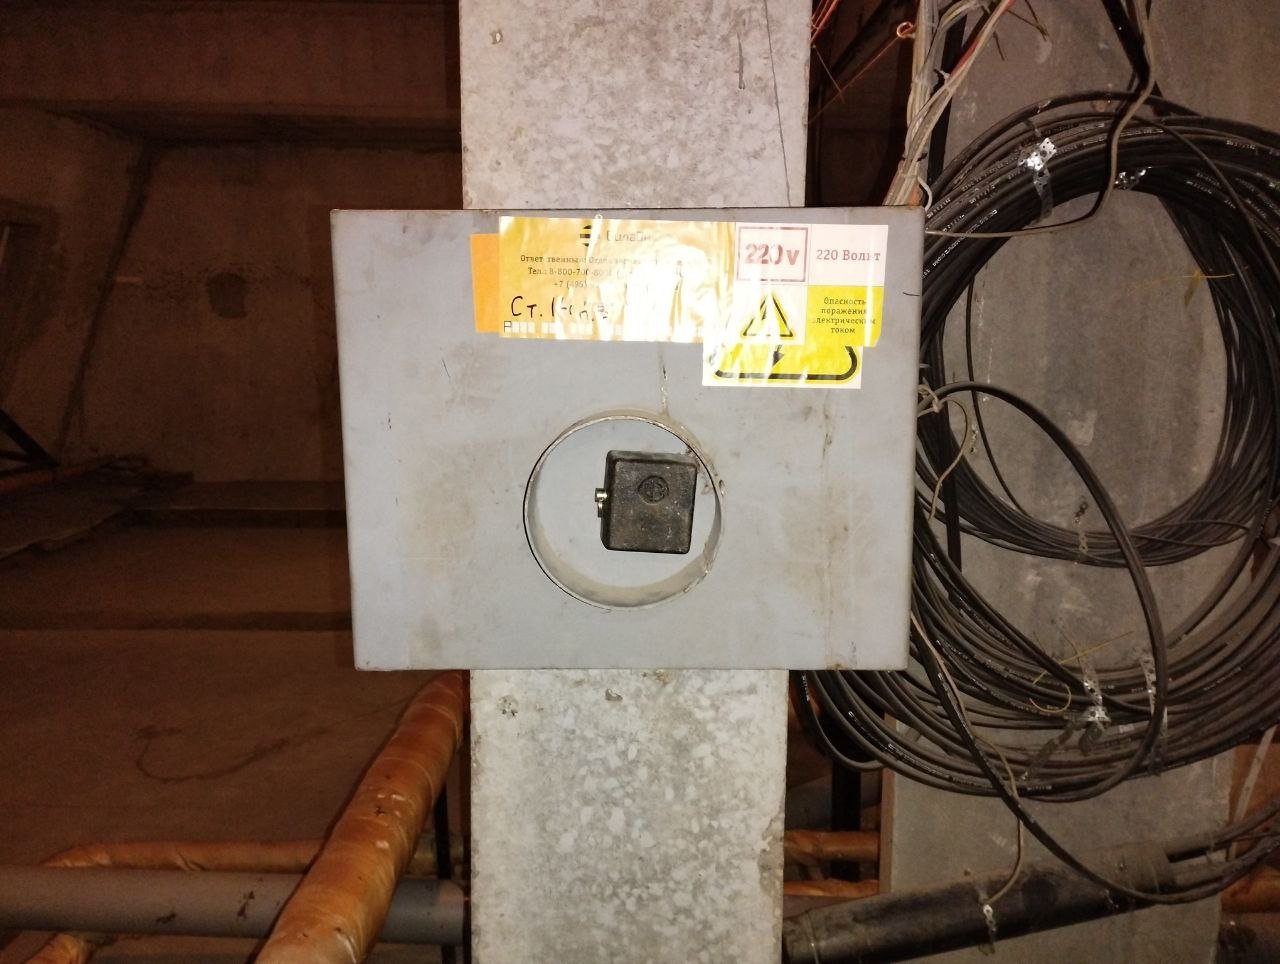shta-3: (328, 205, 928, 678)
